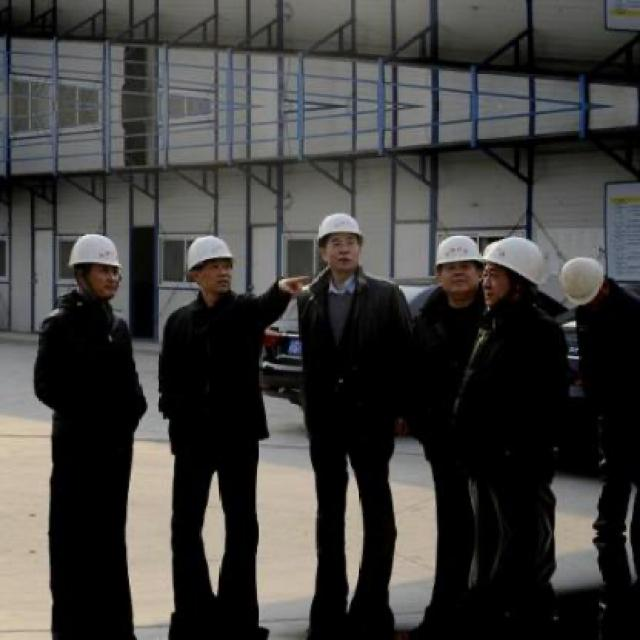helmet: (479, 236, 543, 310), (65, 228, 126, 304), (314, 206, 368, 278), (183, 230, 239, 298), (434, 232, 486, 300), (562, 256, 604, 313)
